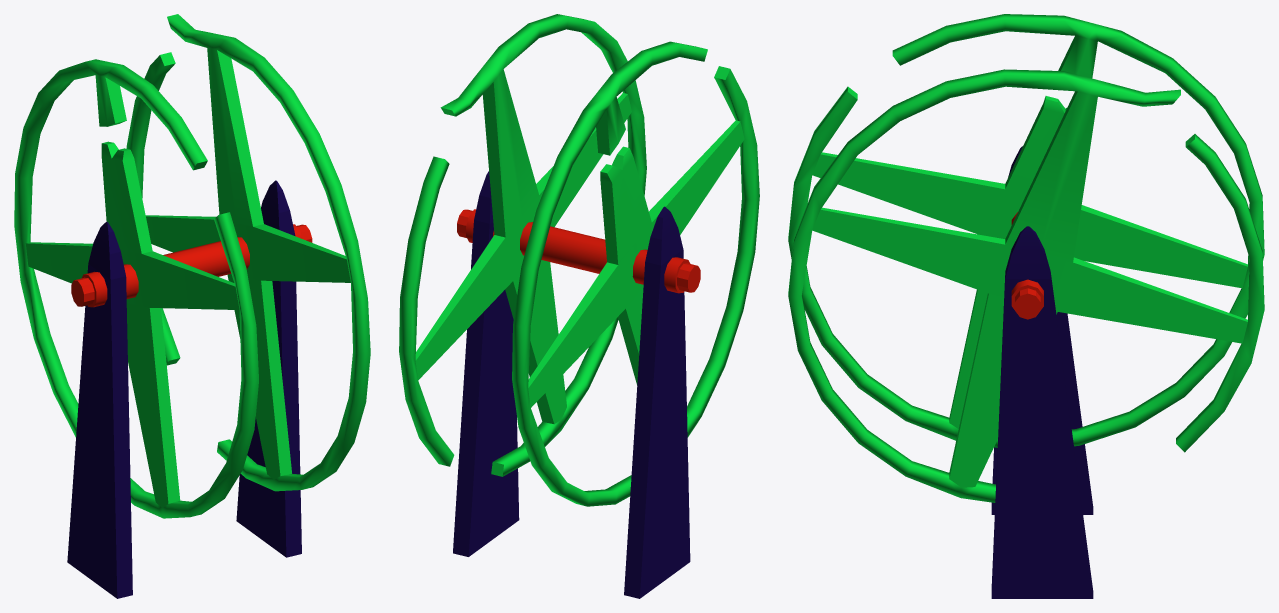
Rendered from Broken_Pirate_Ferris_Wheel.fbx.
3 renders of one model, left to right at view 1: azimuth 30°, elevation 25°; view 2: azimuth 150°, elevation 25°; view 3: azimuth 270°, elevation 25°, orthographic.
Visible parts, largest first — view 1: Ferris_Wheel; view 2: Ferris_Wheel; view 3: Ferris_Wheel.
Part boxes in pixels (x1=…): Ferris_Wheel: x1=14, y1=14, x2=370, y2=598; Ferris_Wheel: x1=399, y1=14, x2=759, y2=598; Ferris_Wheel: x1=788, y1=14, x2=1264, y2=598.
Size of the model in its own units: 7.71 by 16.11 by 13.67.
